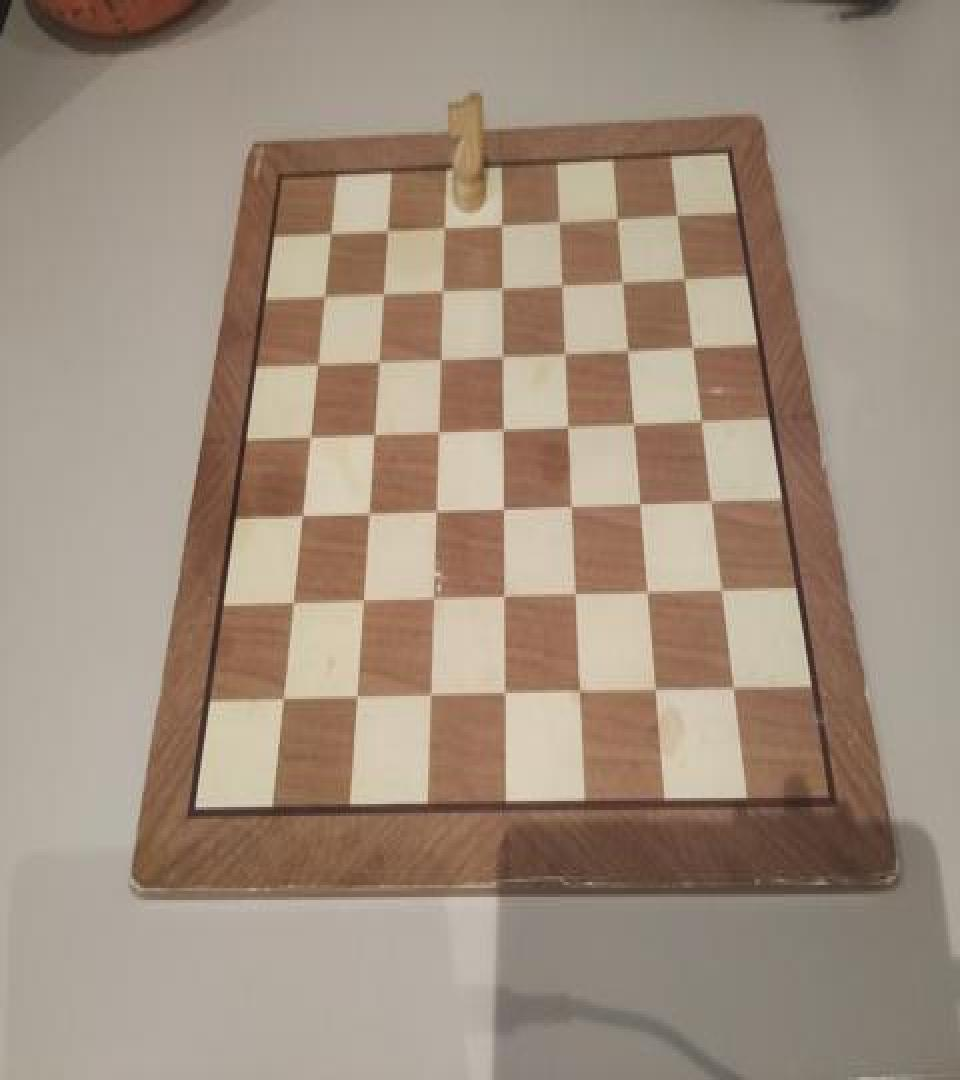xcorner: (357, 499, 377, 530), (693, 400, 713, 431), (345, 686, 365, 716), (495, 680, 515, 710), (572, 676, 592, 706), (725, 670, 745, 700), (280, 591, 300, 621), (351, 588, 371, 618), (423, 585, 443, 615), (495, 582, 515, 612), (567, 579, 587, 609), (640, 574, 660, 604), (289, 502, 309, 532), (425, 496, 445, 526), (494, 494, 514, 524), (563, 489, 583, 519), (633, 486, 653, 516), (703, 483, 723, 513), (297, 422, 317, 452), (362, 418, 382, 448), (428, 416, 448, 446), (493, 411, 513, 441), (559, 408, 579, 438), (626, 405, 646, 435), (305, 348, 325, 378), (367, 345, 387, 375), (430, 340, 450, 370), (493, 338, 513, 368), (556, 333, 576, 363), (620, 330, 640, 360), (684, 327, 704, 357), (312, 279, 332, 309), (371, 276, 391, 306), (432, 273, 452, 303), (492, 268, 512, 298), (553, 266, 573, 296), (614, 261, 634, 291), (676, 258, 696, 288), (318, 216, 338, 246), (376, 213, 396, 243), (433, 208, 453, 238), (492, 206, 512, 236), (550, 201, 570, 231), (609, 198, 629, 228), (668, 194, 688, 224), (271, 689, 291, 718), (420, 683, 440, 712), (648, 674, 668, 703), (714, 572, 734, 601)
